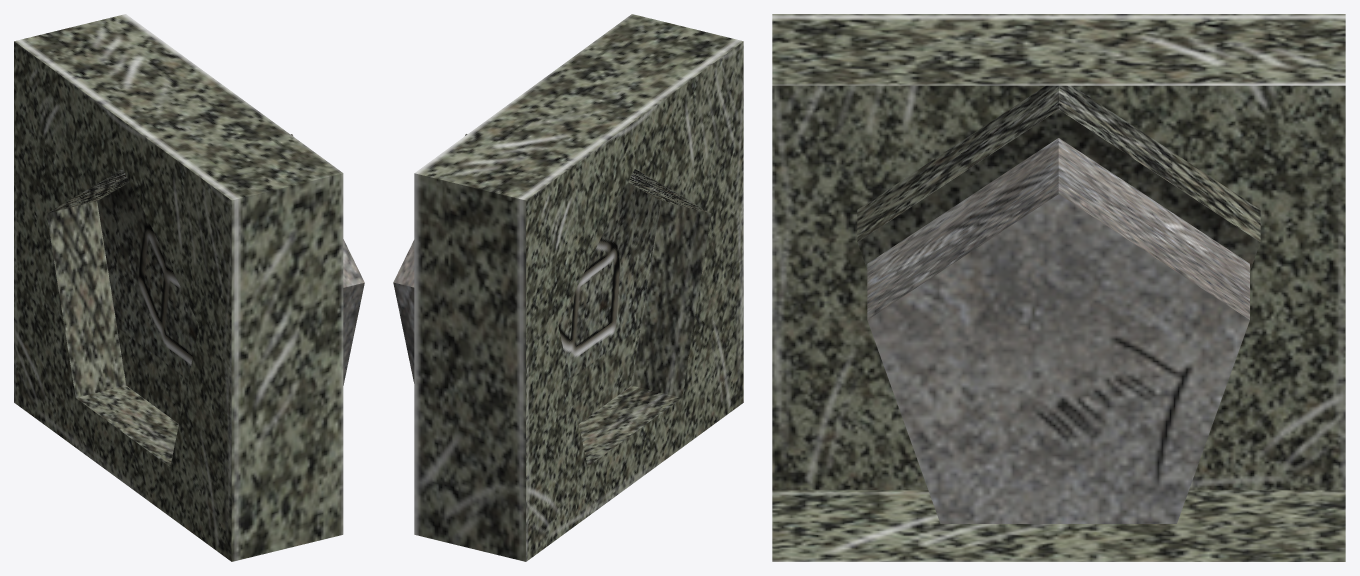
Rendered from socle_terre.fbx.
3 renders of one model, left to right at view 1: azimuth 30°, elevation 25°; view 2: azimuth 150°, elevation 25°; view 3: azimuth 270°, elevation 25°, orthographic. The views are drawn at different scales.
Parts seen in each view (by area): view 1: socle_terre, glyphe_terre; view 2: socle_terre, glyphe_terre; view 3: socle_terre, glyphe_terre.
Part boxes in pixels (<box>): socle_terre: <box>14,14,343,561</box>; glyphe_terre: <box>290,134,364,385</box>; socle_terre: <box>414,14,743,561</box>; glyphe_terre: <box>393,134,467,383</box>; socle_terre: <box>772,14,1345,561</box>; glyphe_terre: <box>867,138,1249,523</box>.
Bounding box in the file's own units: 9.44 × 19.27 × 21.03.
